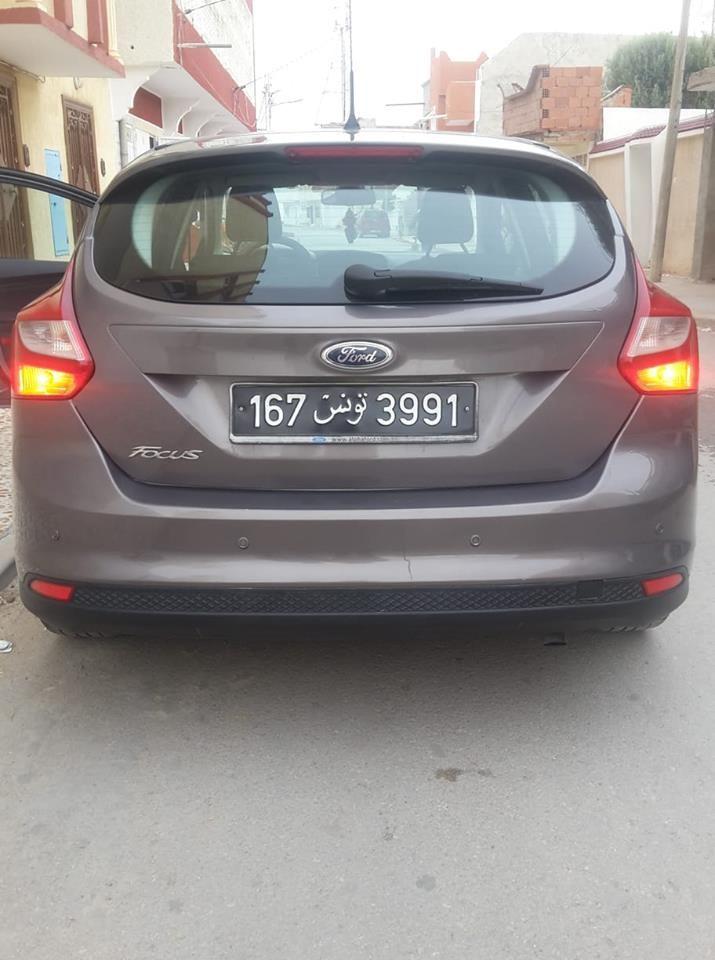LP: (227, 381, 483, 445)
